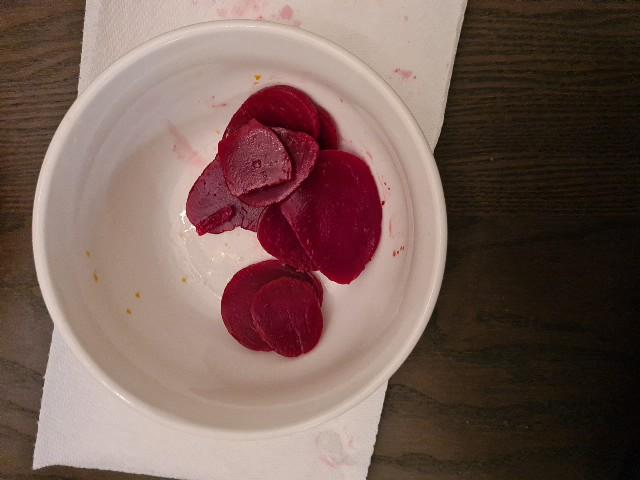kichen waste: (186, 86, 382, 357)
